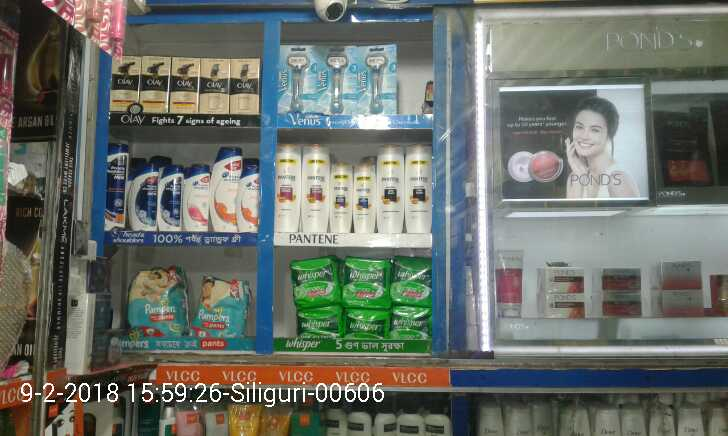venus: (279, 43, 321, 111), (321, 43, 361, 113), (362, 44, 397, 116)
